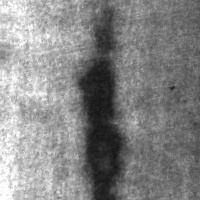patches: (74, 54, 127, 200)
